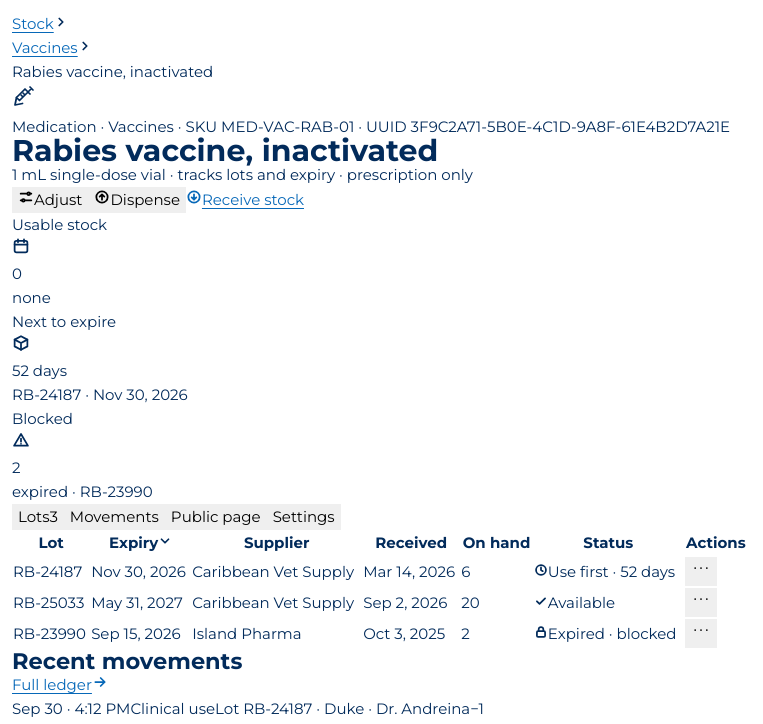
Test case: ProductLots tabs and dialog › shows a minimum of 0 for a product without usable stock
Step 1. Click the tab "Settings" → (304, 517), box [267, 504, 341, 530]
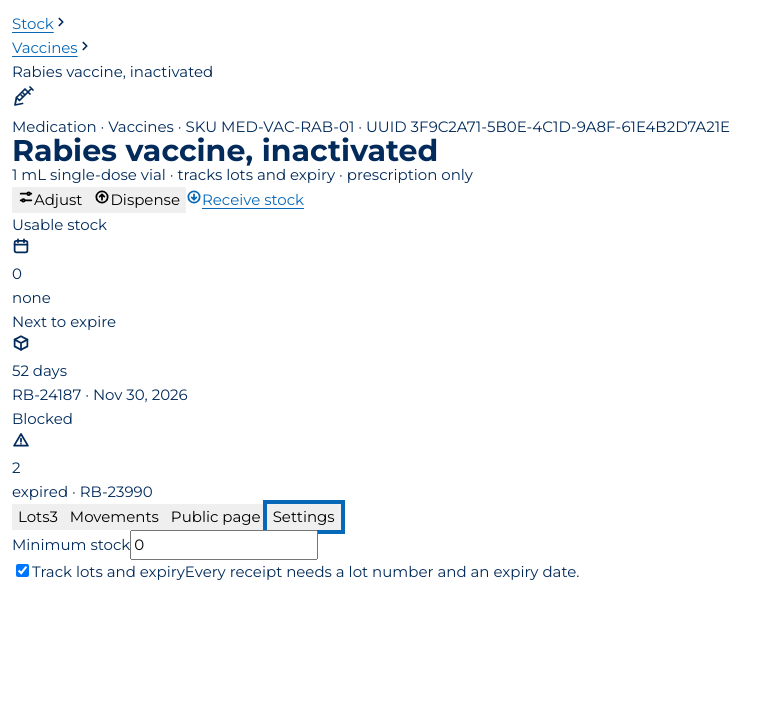
Check: the field labelled "Minimum stock" holds "0", box [130, 530, 318, 560]
